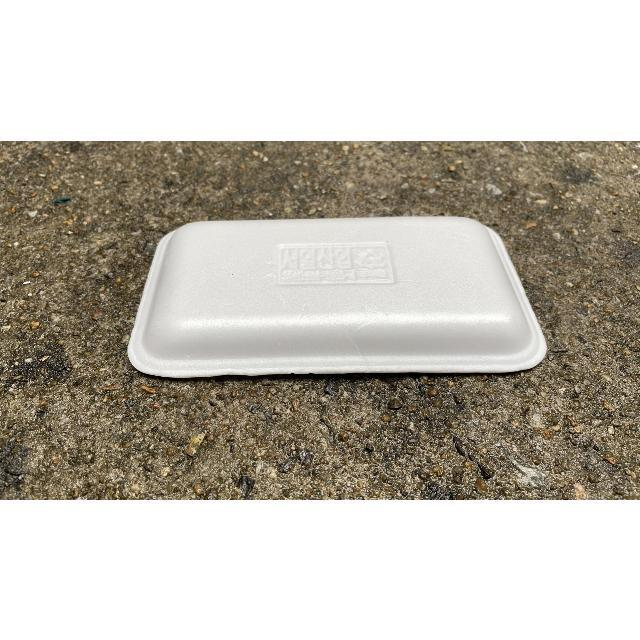Plastico descartable: (127, 217, 549, 383)
